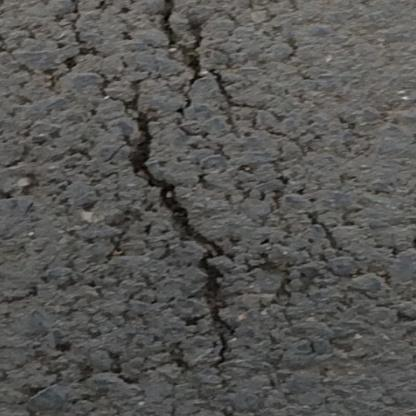Cracks: (90, 67, 248, 381), (153, 0, 269, 143), (52, 0, 104, 75), (295, 208, 342, 253), (88, 0, 118, 16)
